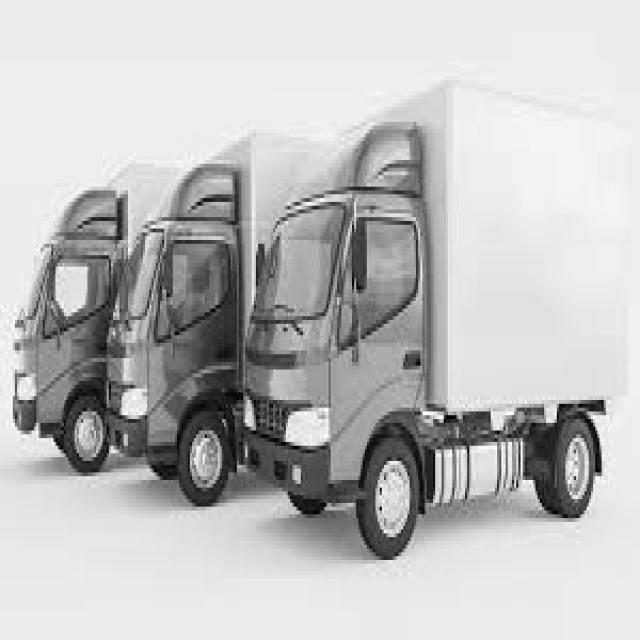truck: (241, 95, 461, 565), (105, 152, 272, 510), (8, 180, 136, 480)
